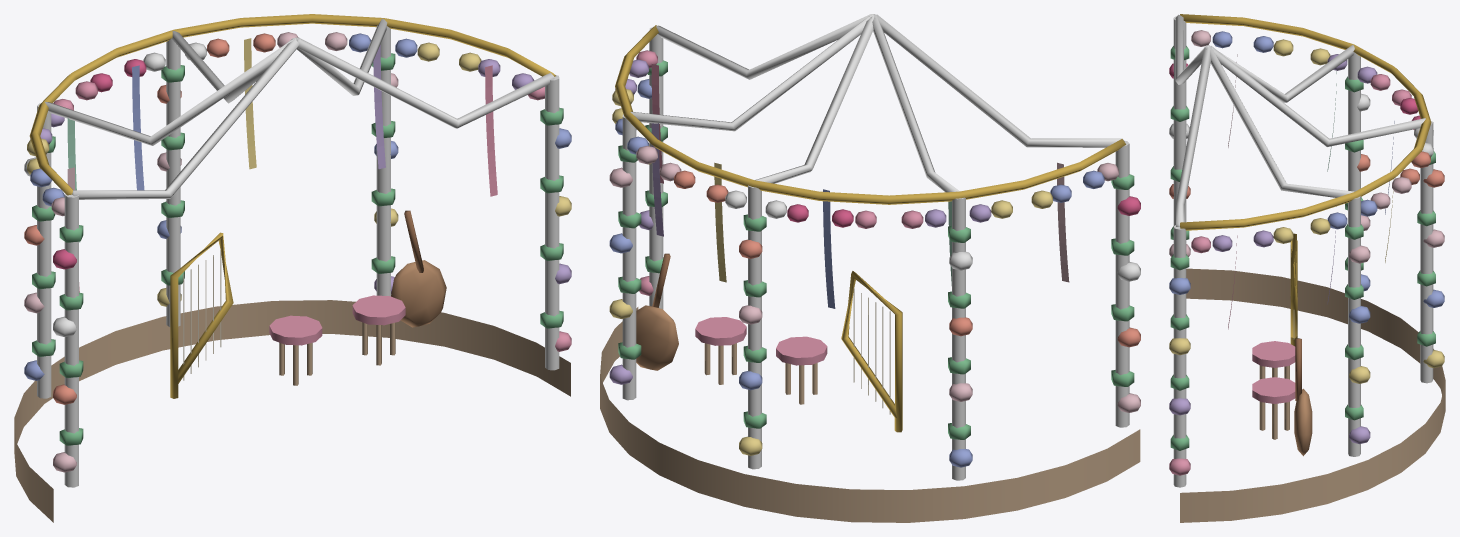
File: solstice_musicians_bower.gltf
3 views of the same model, side by side, from view 1: azimuth 30°, elevation 25°; view 2: azimuth 150°, elevation 25°; view 3: azimuth 270°, elevation 25° (orthographic). The views are drawn at different scales.
Parts seen in each view (by area): view 1: solstice_musicians_bower; view 2: solstice_musicians_bower; view 3: solstice_musicians_bower.
Boxes of the visible parts, box(x1,y1,x2,y2) form: solstice_musicians_bower: box(14, 14, 571, 522); solstice_musicians_bower: box(600, 14, 1140, 522); solstice_musicians_bower: box(1169, 14, 1445, 522).
Size of what is drawn, in the model's own units: 5.62 by 4.24 by 2.91.
